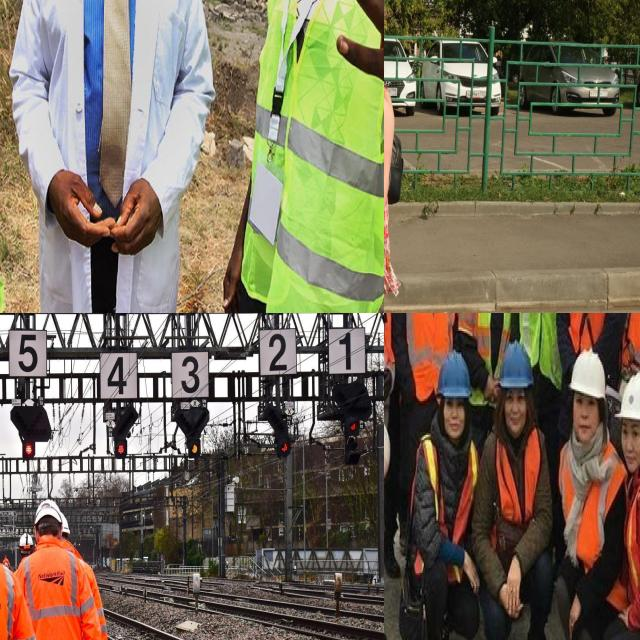face_nomask: (574, 393, 601, 443), (618, 413, 640, 467), (506, 388, 528, 436), (445, 399, 468, 437)
hand_noglove: (45, 161, 110, 257), (109, 182, 162, 257), (506, 553, 526, 617), (462, 546, 480, 600), (566, 592, 582, 640)
head_helmet: (497, 342, 536, 394), (436, 352, 474, 398), (570, 350, 606, 398), (618, 374, 640, 433), (34, 499, 62, 526), (19, 533, 34, 549), (62, 514, 71, 535)
person: (42, 0, 173, 313), (278, 0, 384, 313), (546, 360, 622, 640), (484, 350, 550, 640), (409, 370, 478, 640), (16, 503, 103, 640), (609, 365, 640, 640), (519, 313, 574, 381), (572, 313, 630, 355), (468, 313, 525, 347), (399, 313, 454, 347)
shoes: (384, 514, 402, 582)
vest: (257, 0, 384, 313), (558, 442, 628, 580), (492, 435, 554, 579), (426, 435, 482, 591), (12, 546, 104, 640), (519, 313, 571, 383), (467, 313, 520, 374), (402, 313, 453, 373), (624, 477, 640, 640), (570, 313, 619, 356), (621, 313, 640, 378)
